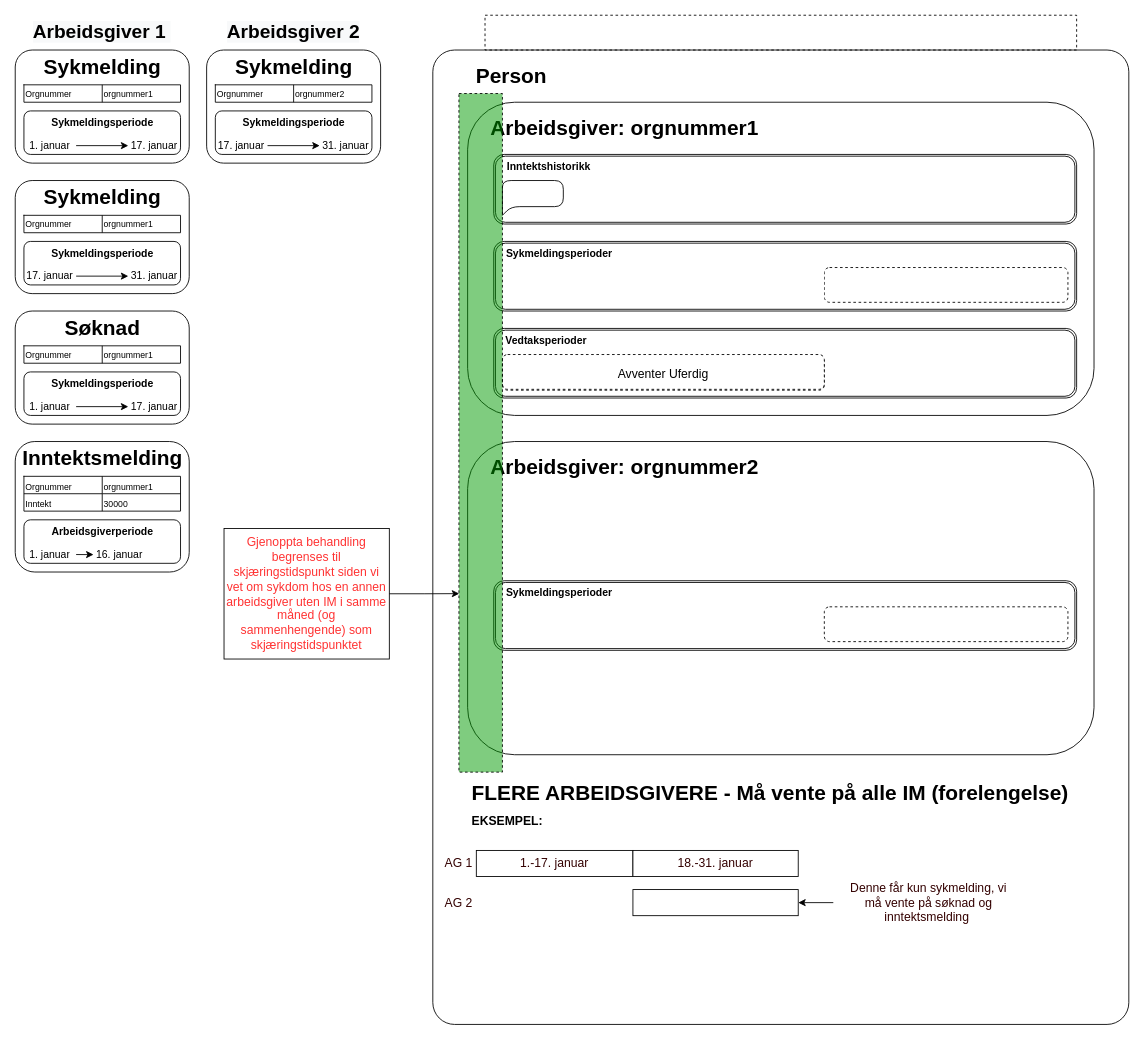
Some shapes in this 1144 by 1040 pixel diagram are drawn without their labels. The shapes that lost their labels are listed below. From the top down, each one's box as (x1, y1, x2, y2) in pixels, then its label:
(484, 14, 1077, 50): JANUAR
(502, 180, 563, 215): Inntekt: 30000kr/mnd
(632, 889, 798, 916): 18.-30. januar
